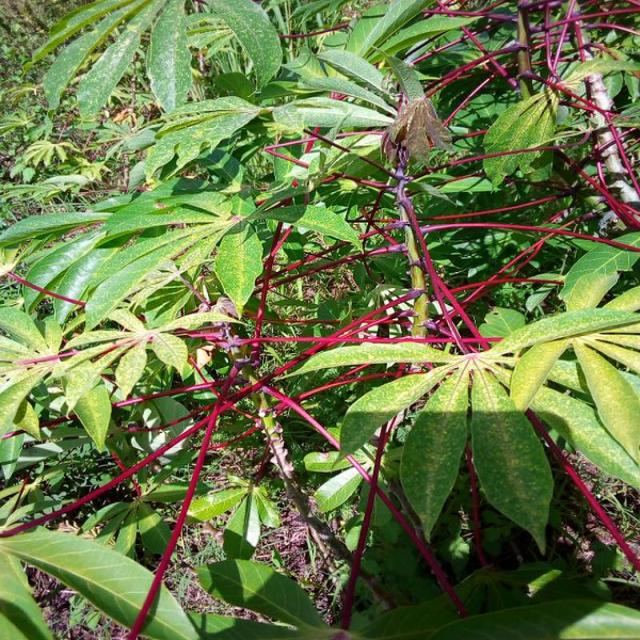cassava leaf: (0, 1, 638, 637), (481, 85, 559, 188)
